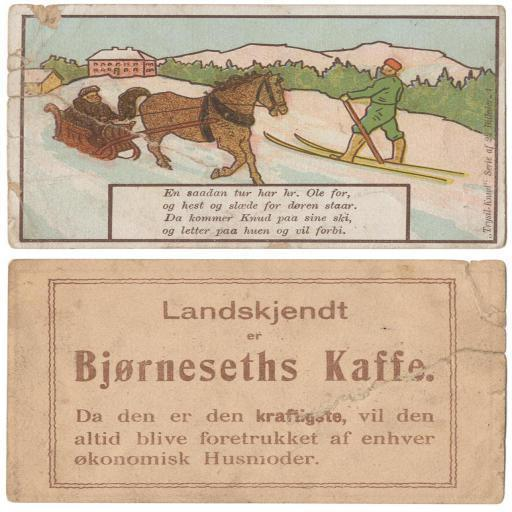horse: (115, 68, 288, 184)
